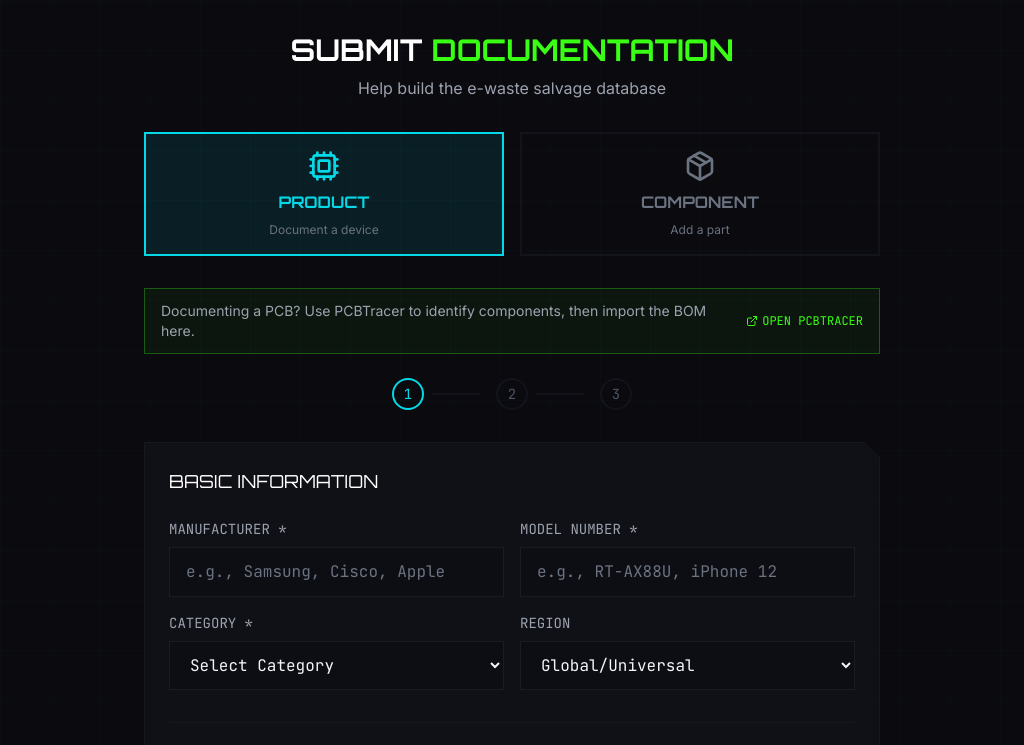
Submit Page › wizard step progression › advances to step 2 when valid
# Fill required fields
Type "Test Manufacturer" into the field with placeholder "e.g., Samsung, Cisco, Apple". click: (336, 572)
box: 169,547 -> 504,597
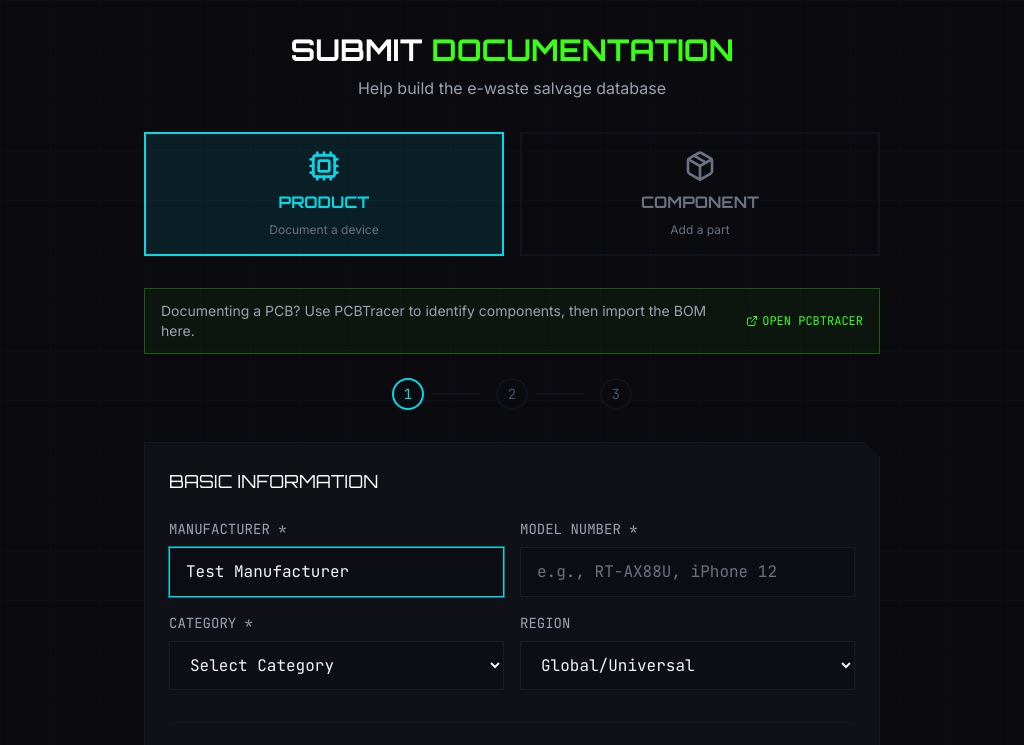
Type "TEST-001" into the field with placeholder "e.g., RT-AX88U, iPhone 12". click: (688, 572)
box: 520,547 -> 855,597
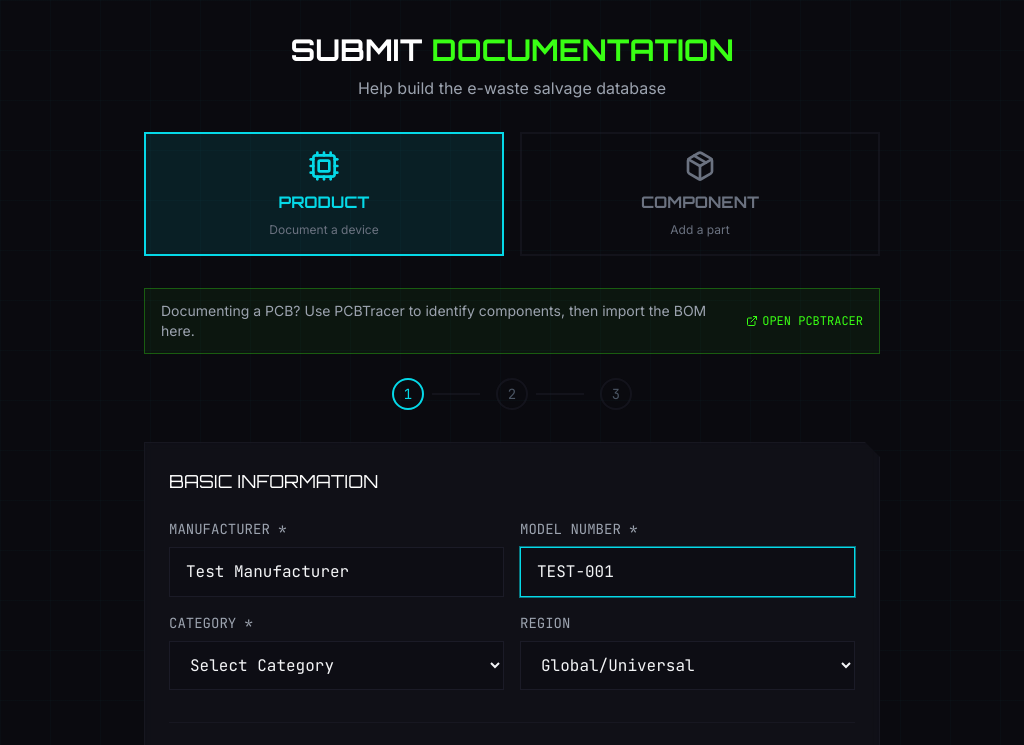
Select "Router" in the dropdown below "CATEGORY". click: (336, 666)
box: 169,641 -> 504,690
(page scrolled)
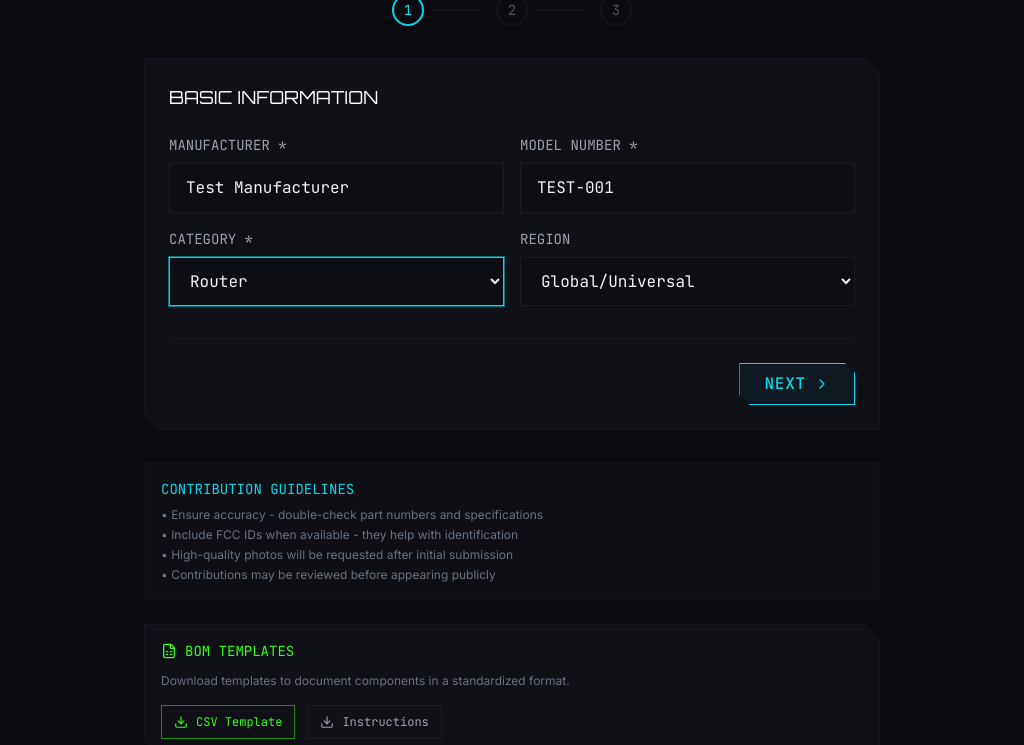
# Click next
Click the button "NEXT". click: (797, 384)
box: 739,363 -> 855,405
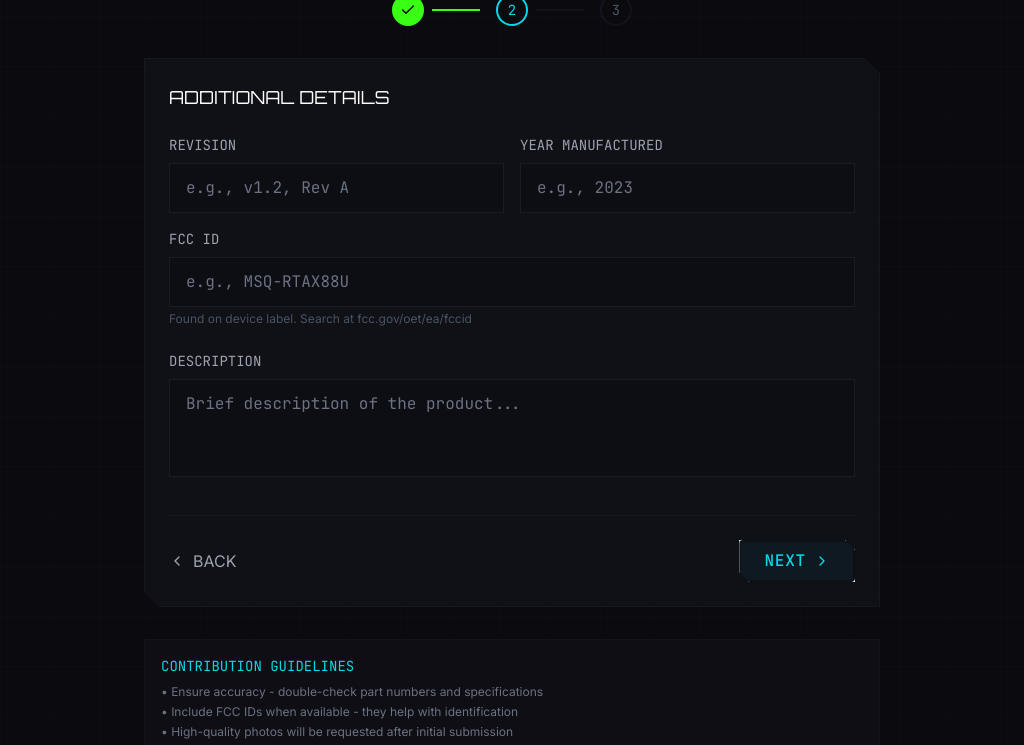
Expected: the heading "ADDITIONAL DETAILS" is shown, 169,86 -> 390,108
